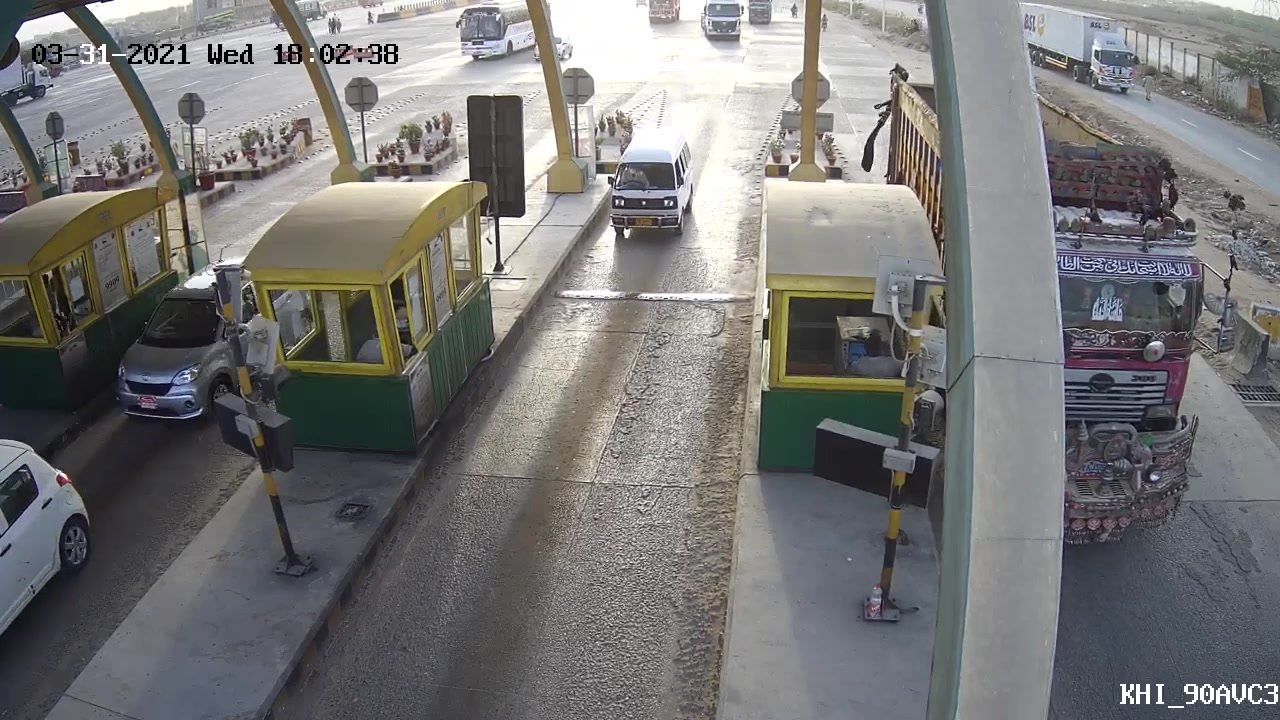F2: (598, 128, 702, 243)
